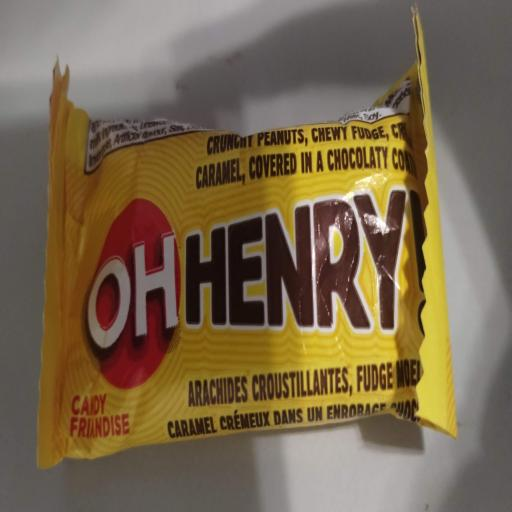chocolate: (39, 13, 456, 466)
